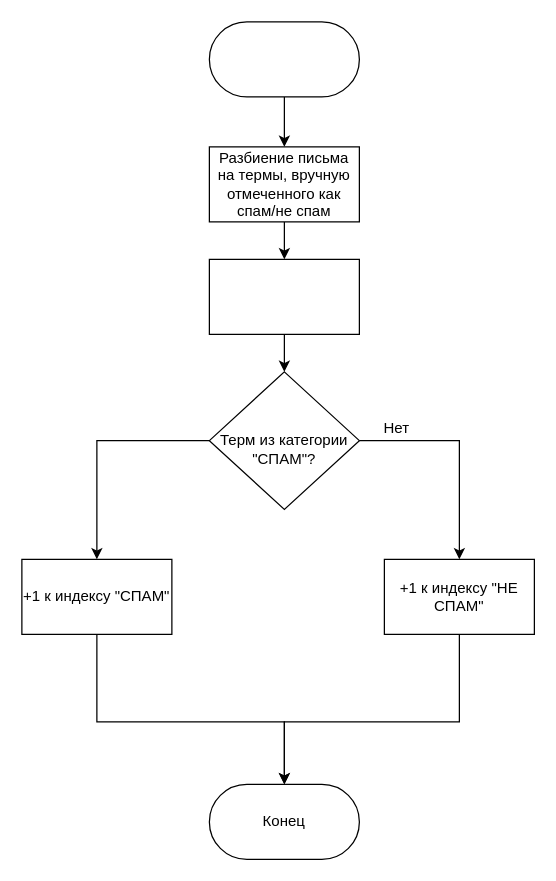
This 556x881 diagram has some shape labels left out. Here are the shapes that lost their labels. From the top down, the centre of each, then its label:
At point 283,59: "Начало".
At point 283,296: "Занесение считанных термов в словарь".
